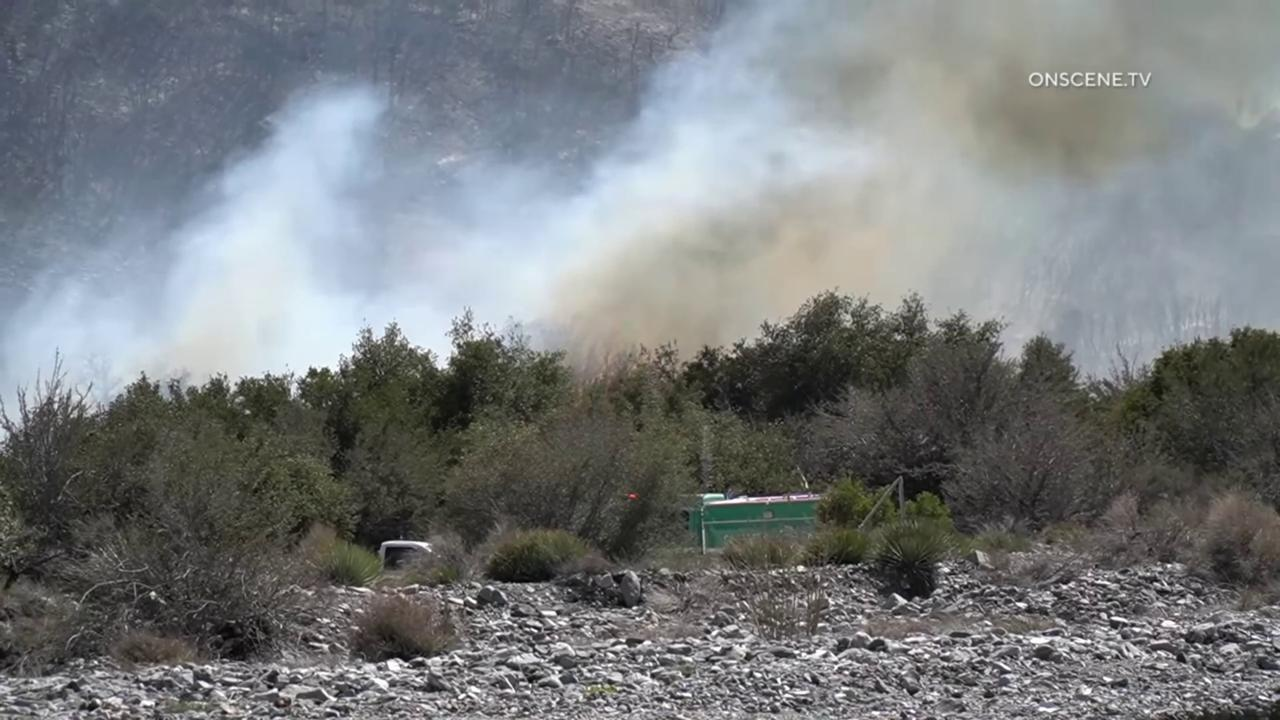fire: (628, 492, 637, 499)
smoke: (0, 0, 1280, 428)
